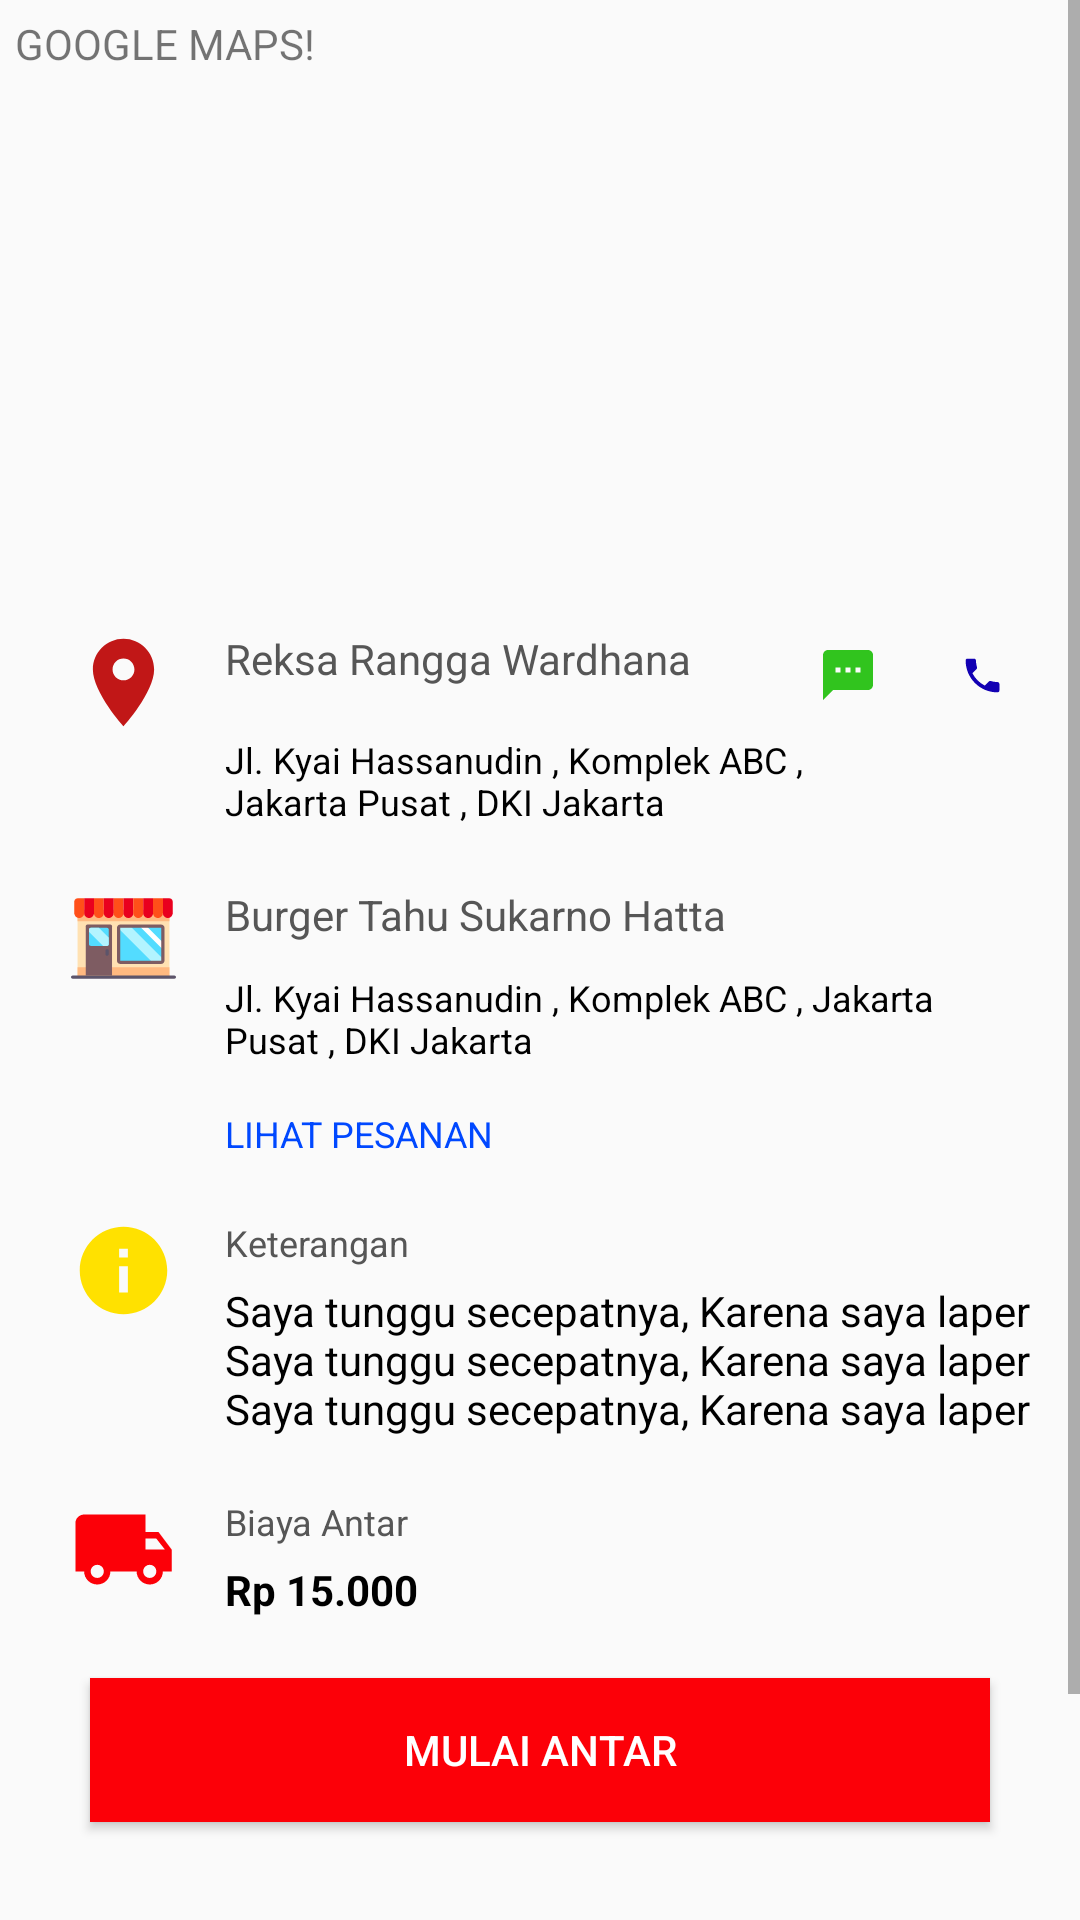

Locate icon controls on the screen. Image size 1080×1920, boxes as {"x1": x1, "y1": y1, "x2": x2, "y2": y2}.
call: {"x1": 965, "y1": 658, "x2": 1000, "y2": 693}
info: {"x1": 79, "y1": 1226, "x2": 168, "y2": 1315}
location: {"x1": 92, "y1": 638, "x2": 154, "y2": 726}
shipping: {"x1": 75, "y1": 1514, "x2": 172, "y2": 1585}
store: {"x1": 71, "y1": 898, "x2": 176, "y2": 979}
